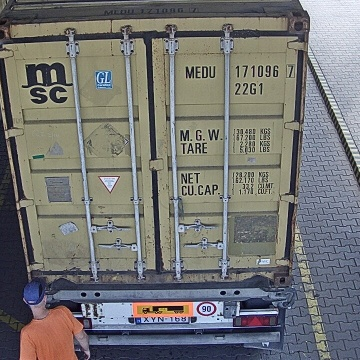serial_id: (185, 65, 295, 79)
